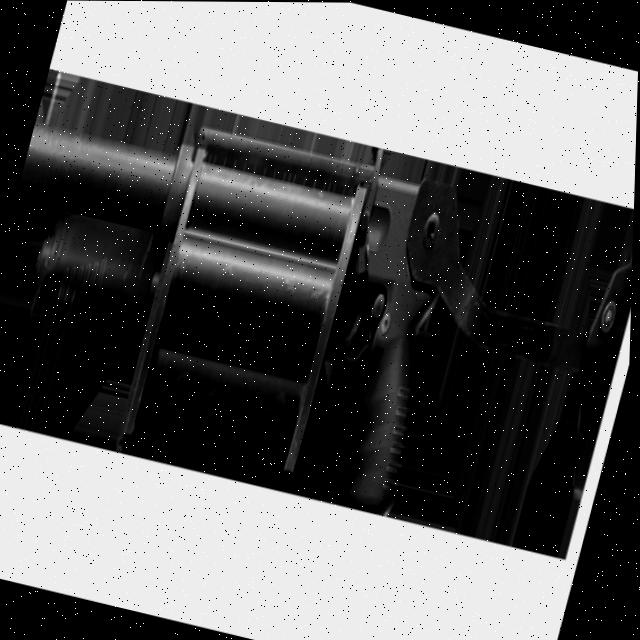rocket: (0, 69, 638, 560)
